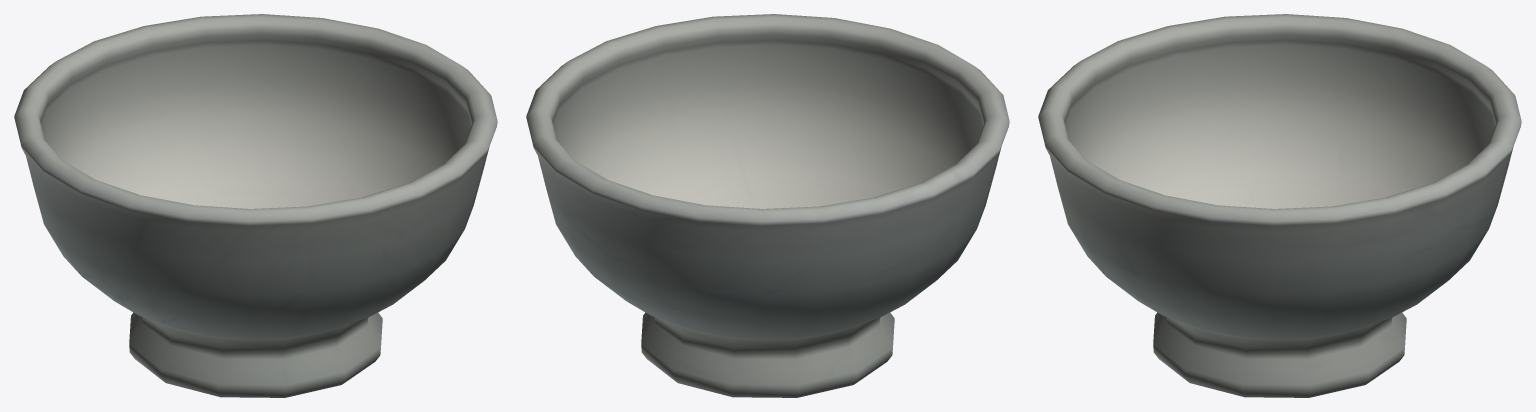
File: TraditionalKoreanHouse_CupC.fbx
3 renders of one model, left to right at view 1: azimuth 30°, elevation 25°; view 2: azimuth 150°, elevation 25°; view 3: azimuth 270°, elevation 25°, orthographic.
Visible parts, largest first — view 1: TraditionalKoreanHouse_CupC; view 2: TraditionalKoreanHouse_CupC; view 3: TraditionalKoreanHouse_CupC.
Part boxes in pixels (x1,y1,x2,y2): TraditionalKoreanHouse_CupC: (14,14,497,397); TraditionalKoreanHouse_CupC: (526,14,1009,397); TraditionalKoreanHouse_CupC: (1038,14,1521,397).
Size of the model in its own units: 6.31 by 3.4 by 6.31.
